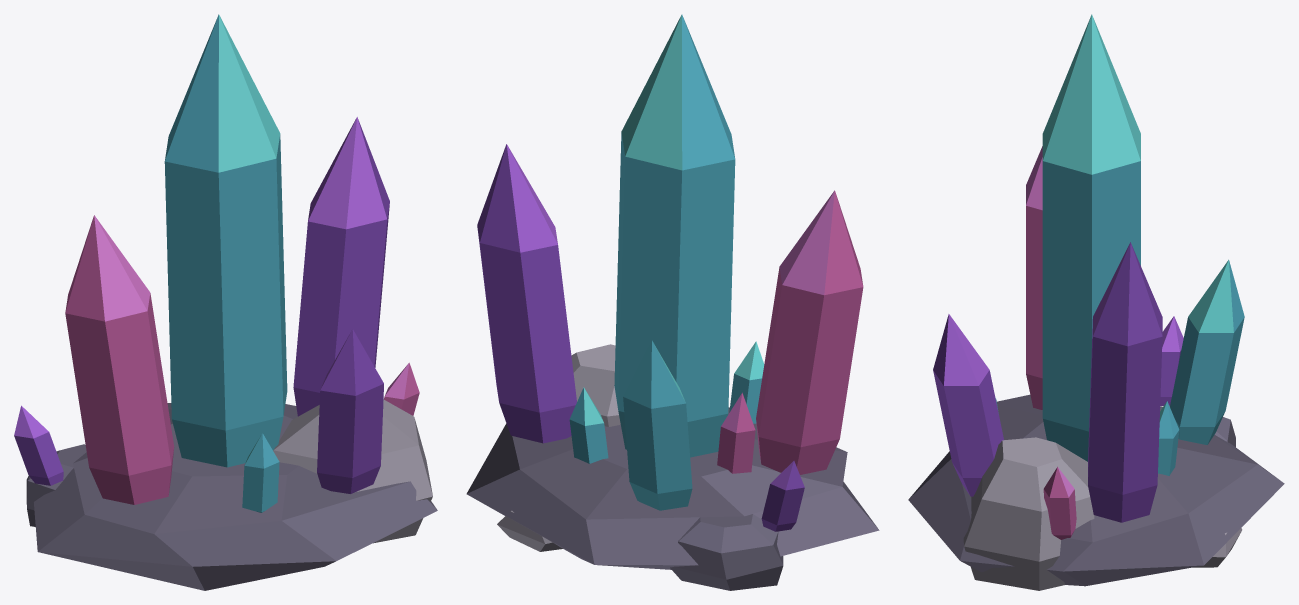
File: Decor_WizardTower_Crystals.fbx
3 renders of one model, left to right at view 1: azimuth 30°, elevation 25°; view 2: azimuth 150°, elevation 25°; view 3: azimuth 270°, elevation 25°, orthographic. The views are drawn at different scales.
Parts seen in each view (by area): view 1: Crystals_Body; view 2: Crystals_Body; view 3: Crystals_Body.
Part boxes in pixels (bbox=[...]): Crystals_Body: bbox=[14, 14, 437, 590]; Crystals_Body: bbox=[466, 14, 879, 590]; Crystals_Body: bbox=[908, 14, 1284, 590].
Size of the model in its own units: 12.56 by 16.13 by 11.
